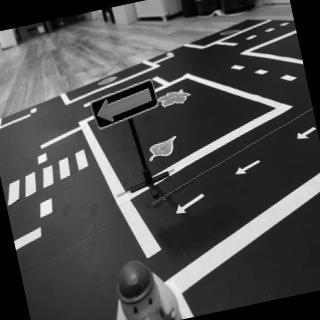duck_specialty: (102, 253, 183, 320)
road_crosswalk: (1, 143, 95, 210)
road_oneway: (170, 185, 215, 221), (228, 152, 267, 184), (289, 117, 320, 150)
sign_oneway_left: (88, 78, 162, 132)
